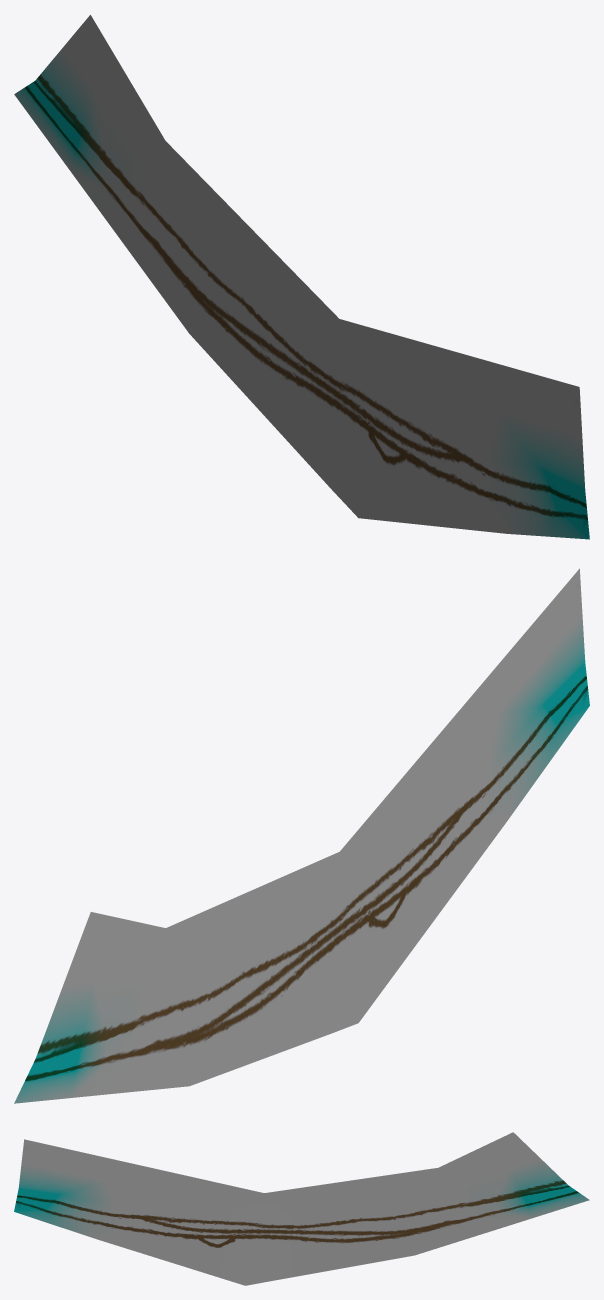
Rendered from SM_Rope_A04.gltf.
3 views of the same model, one above another, from view 1: azimuth 30°, elevation 25°; view 2: azimuth 150°, elevation 25°; view 3: azimuth 270°, elevation 25° (orthographic). The views are drawn at different scales.
Visible parts, largest first — view 1: SM_Rope_A04_LOD0; view 2: SM_Rope_A04_LOD0; view 3: SM_Rope_A04_LOD0.
Boxes of the visible parts, x1,y1,x2,y2 form: SM_Rope_A04_LOD0: (14,15,589,539); SM_Rope_A04_LOD0: (14,568,589,1103); SM_Rope_A04_LOD0: (14,1132,589,1285).
Size of what is drawn, in the model's own units: 0.00943 by 3.99 by 13.54.
Materials: 1 (1 with a texture image).
